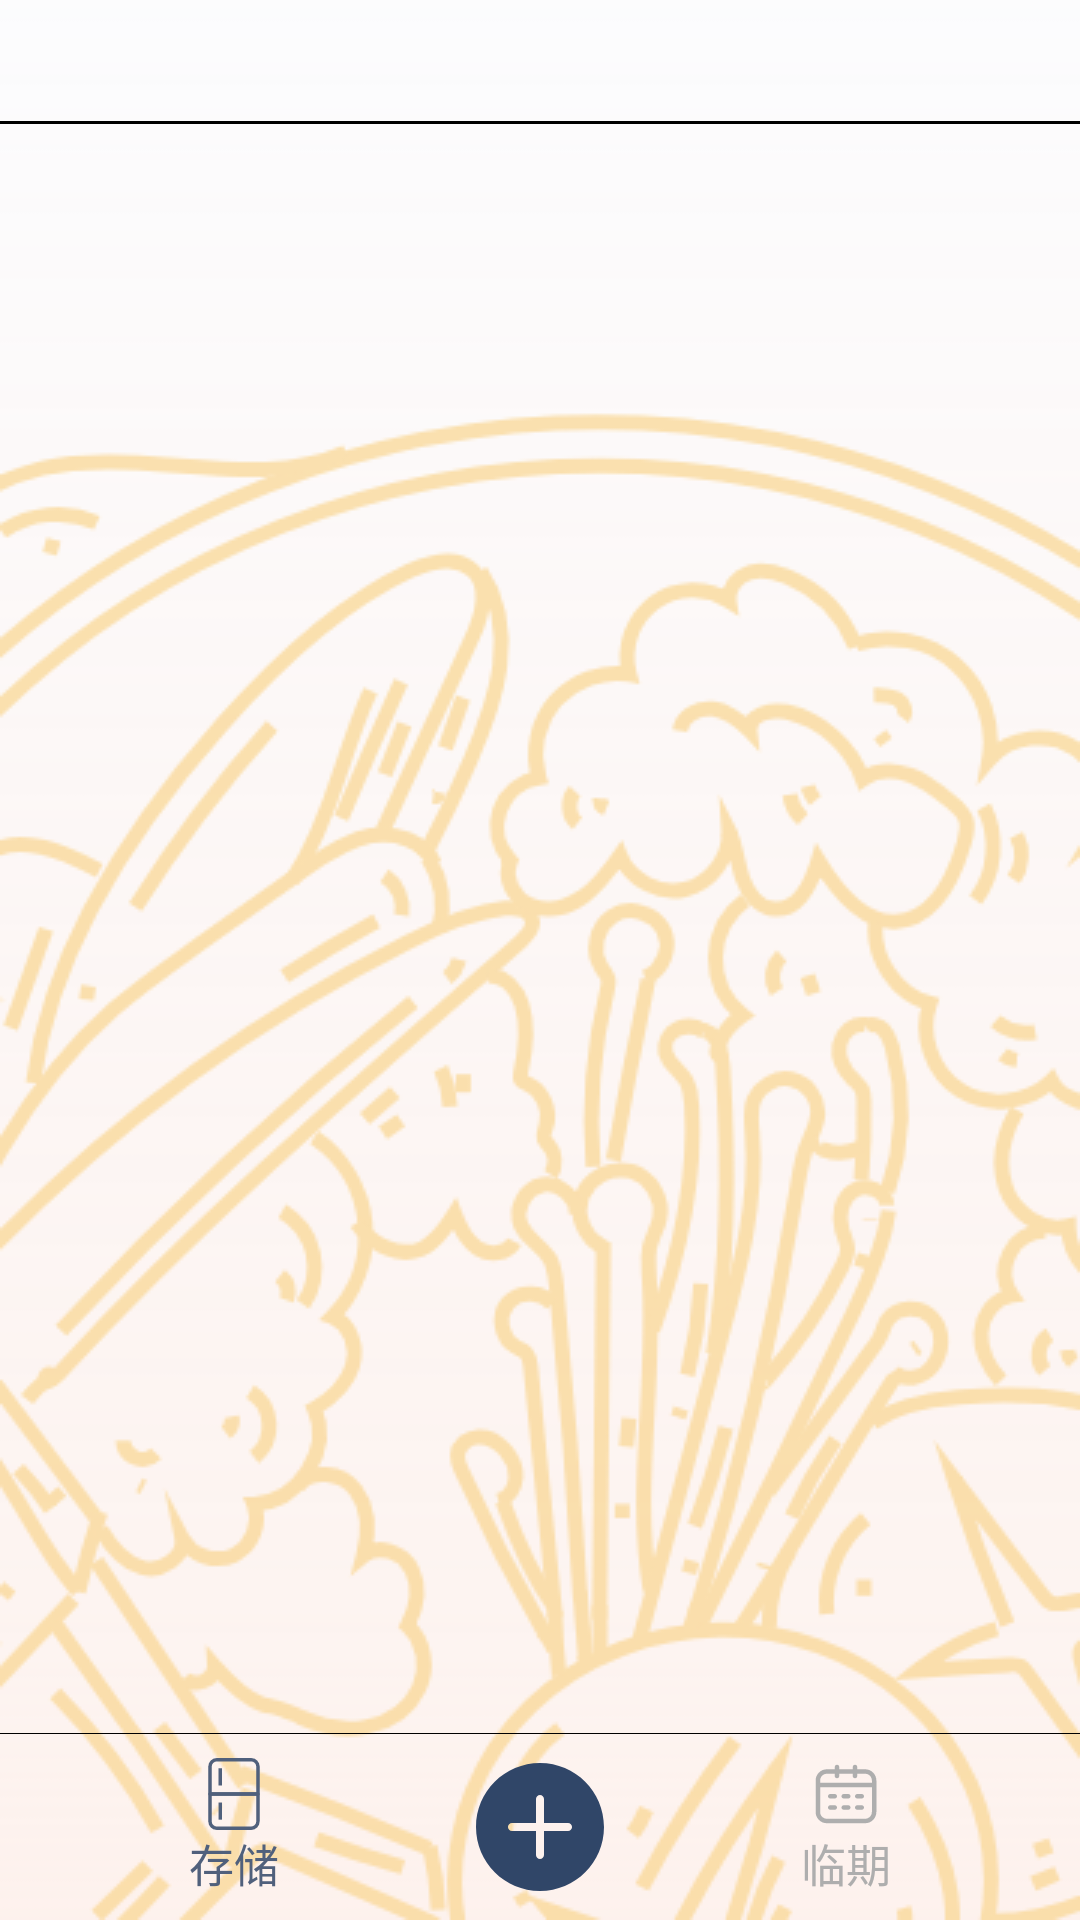

Point at icon controls on the screen. Image size 1080 × 1920, points as (x,y).
add: (536,1827)
bingxiang: (234,1794)
